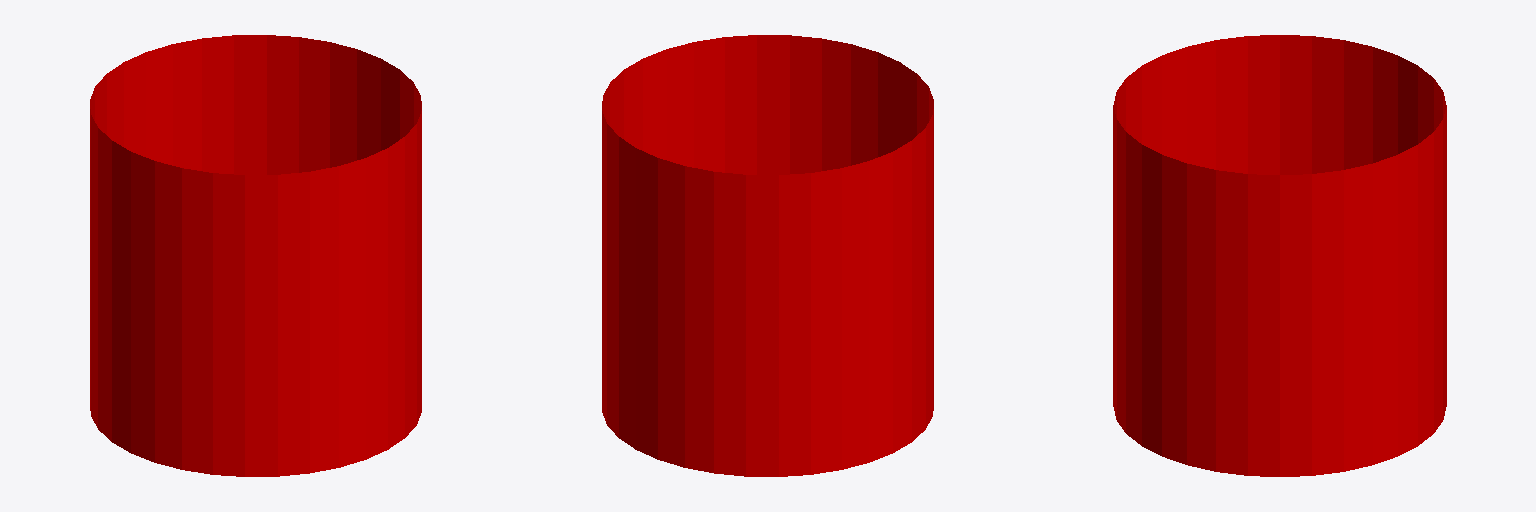
The model's file is red_cylinder.obj.
3 renders of one model, left to right at view 1: azimuth 30°, elevation 25°; view 2: azimuth 150°, elevation 25°; view 3: azimuth 270°, elevation 25°, orthographic.
Size of the model in its own units: 2 by 2 by 2.